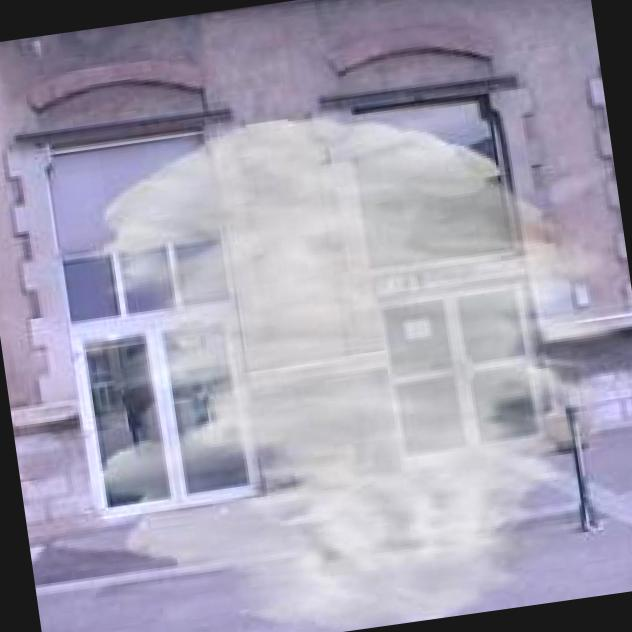smoke: (49, 75, 632, 632)
